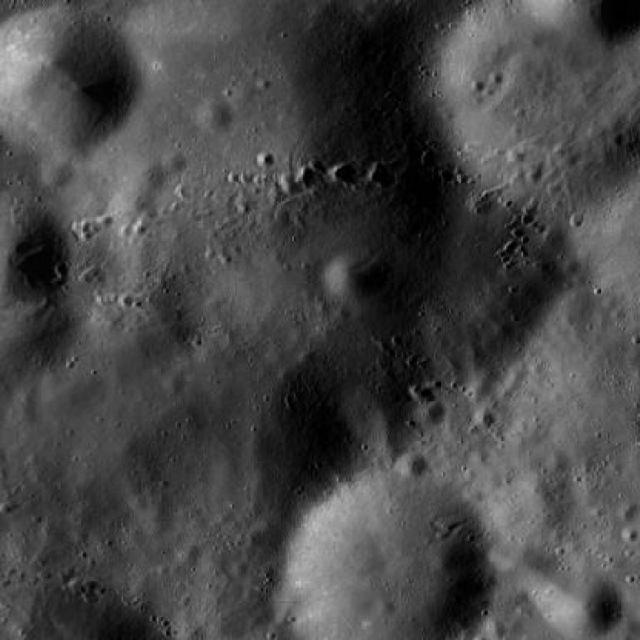crater: (8, 0, 483, 395), (0, 3, 142, 156), (85, 264, 202, 372), (0, 268, 77, 392), (0, 199, 72, 310), (538, 563, 626, 640), (344, 384, 421, 456), (506, 470, 576, 533), (324, 251, 390, 311), (506, 544, 554, 590), (110, 182, 153, 222), (488, 496, 527, 532), (199, 96, 236, 130), (434, 540, 466, 569), (137, 162, 168, 190), (274, 594, 304, 622), (466, 188, 496, 216), (43, 159, 72, 187), (197, 548, 226, 576), (396, 451, 426, 478), (417, 400, 446, 426), (489, 542, 517, 568), (545, 450, 570, 473), (160, 370, 186, 392), (163, 152, 188, 174), (484, 618, 508, 640), (332, 161, 356, 181), (474, 408, 496, 428), (179, 542, 201, 562), (561, 258, 581, 277), (296, 164, 316, 182), (378, 599, 397, 616), (245, 528, 264, 544), (623, 526, 640, 543), (18, 386, 36, 402), (258, 150, 274, 166), (284, 181, 301, 196), (0, 0, 2, 2)
